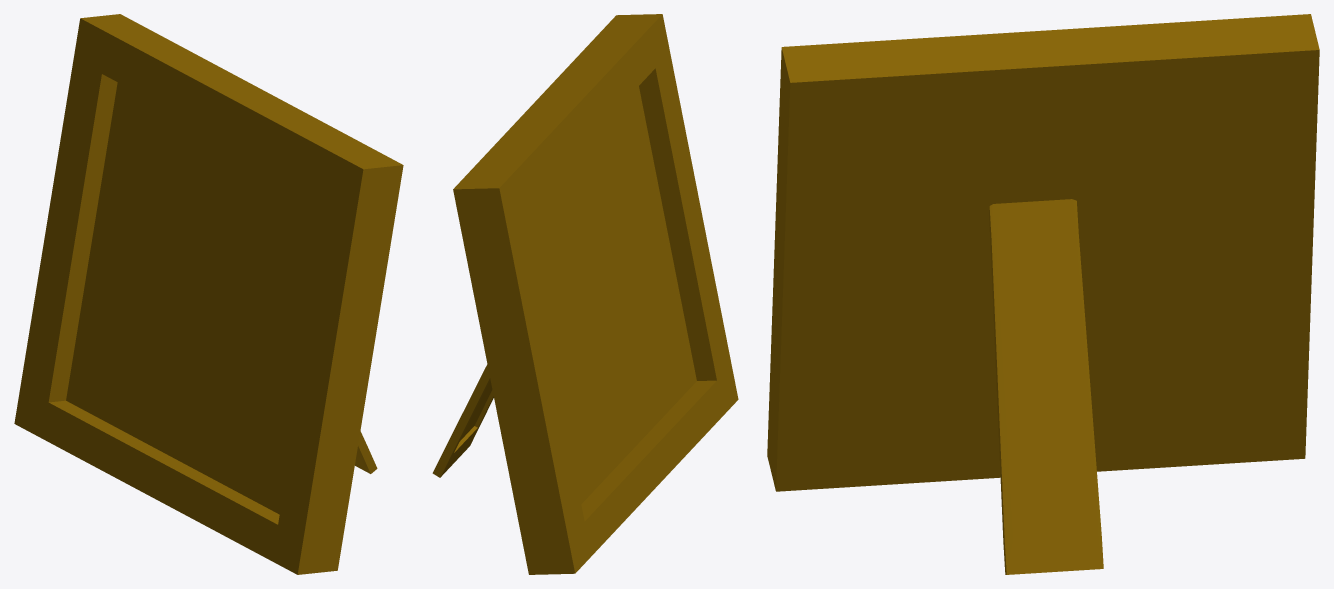
File: fotoJulia.fbx
3 renders of one model, left to right at view 1: azimuth 30°, elevation 25°; view 2: azimuth 150°, elevation 25°; view 3: azimuth 270°, elevation 25°, orthographic. The views are drawn at different scales.
Visible parts, largest first — view 1: pCube381, pCube382; view 2: pCube381, pCube382; view 3: pCube381, pCube382.
Boxes of the visible parts, x1=… form: pCube381: x1=14, y1=14, x2=403, y2=574; pCube382: x1=355, y1=431, x2=377, y2=473; pCube381: x1=453, y1=14, x2=738, y2=574; pCube382: x1=432, y1=364, x2=493, y2=477; pCube381: x1=767, y1=14, x2=1319, y2=491; pCube382: x1=989, y1=199, x2=1103, y2=574.
Bounding box in the file's own units: 0.1085 × 0.1731 × 0.1847.
